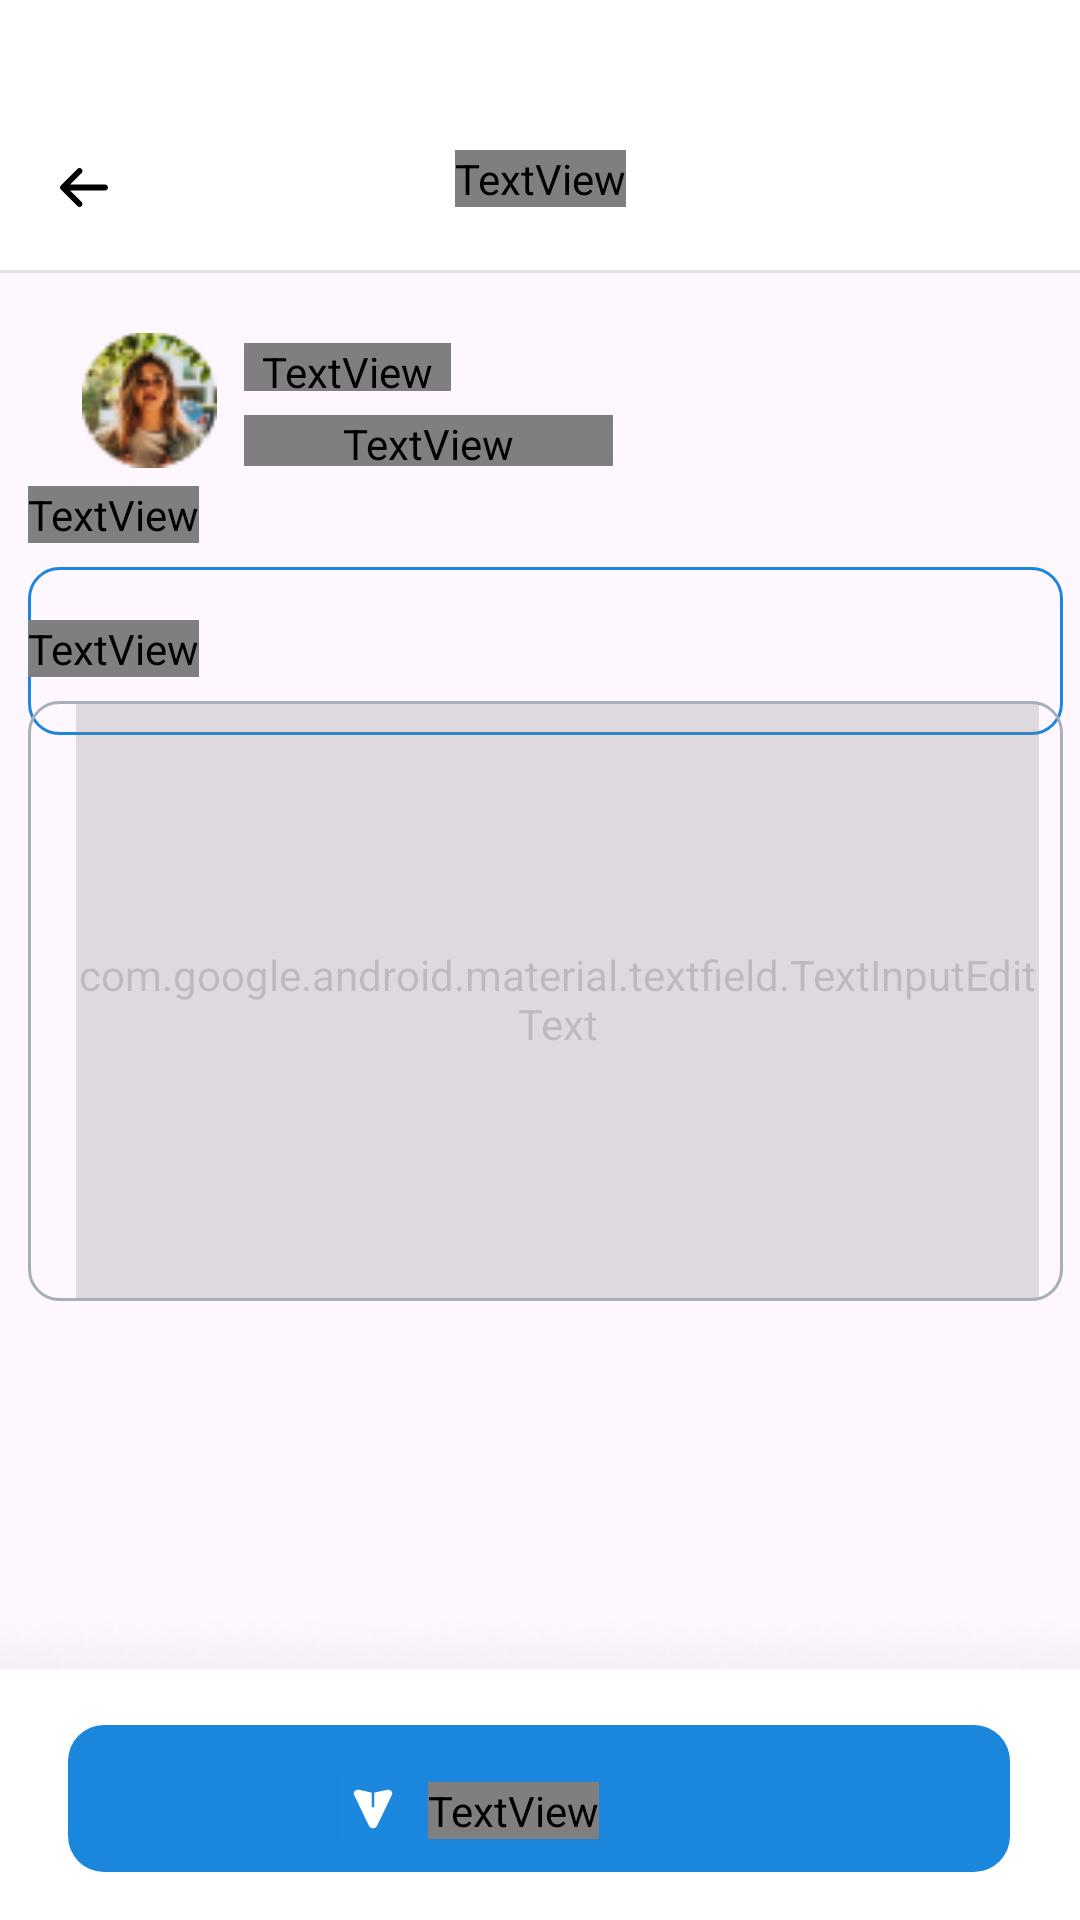

Where icons sit on this 1080px x 1920px app screen, as (x1, y1, x2, y2):
back: (60, 168, 108, 207)
profilepicture: (82, 333, 217, 468)
